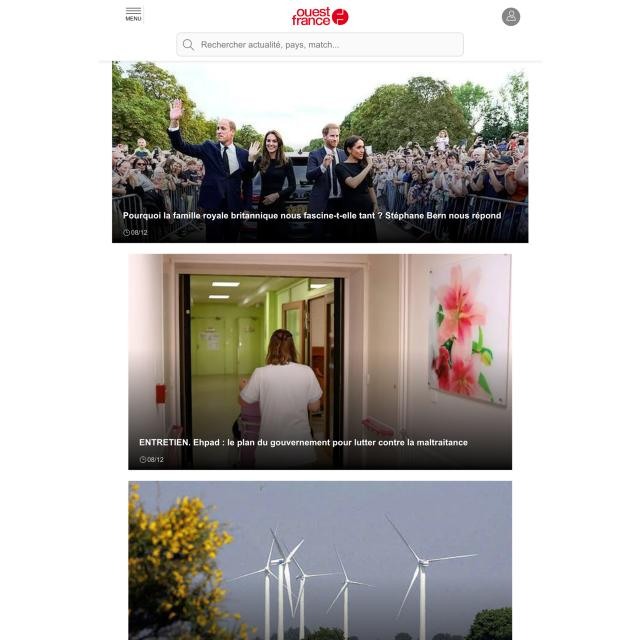input: (176, 31, 465, 56)
logo: (288, 5, 350, 28)
navigation: (125, 4, 144, 24)
